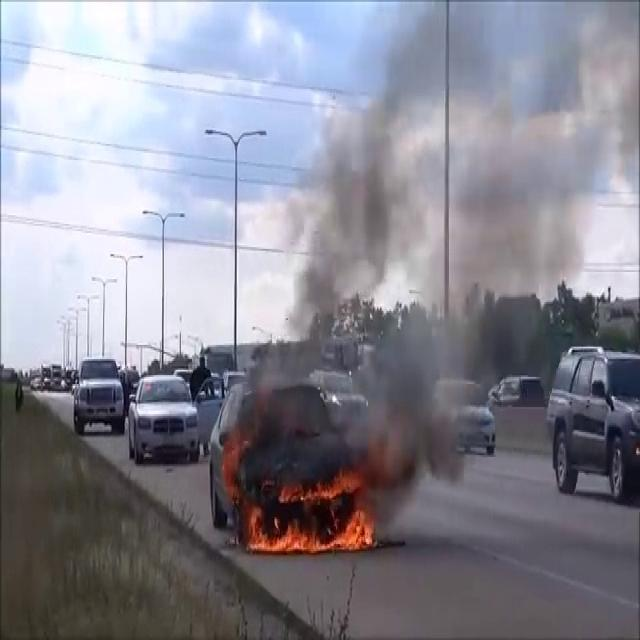Fire: (246, 466, 377, 558)
Smoke: (233, 14, 607, 502)
